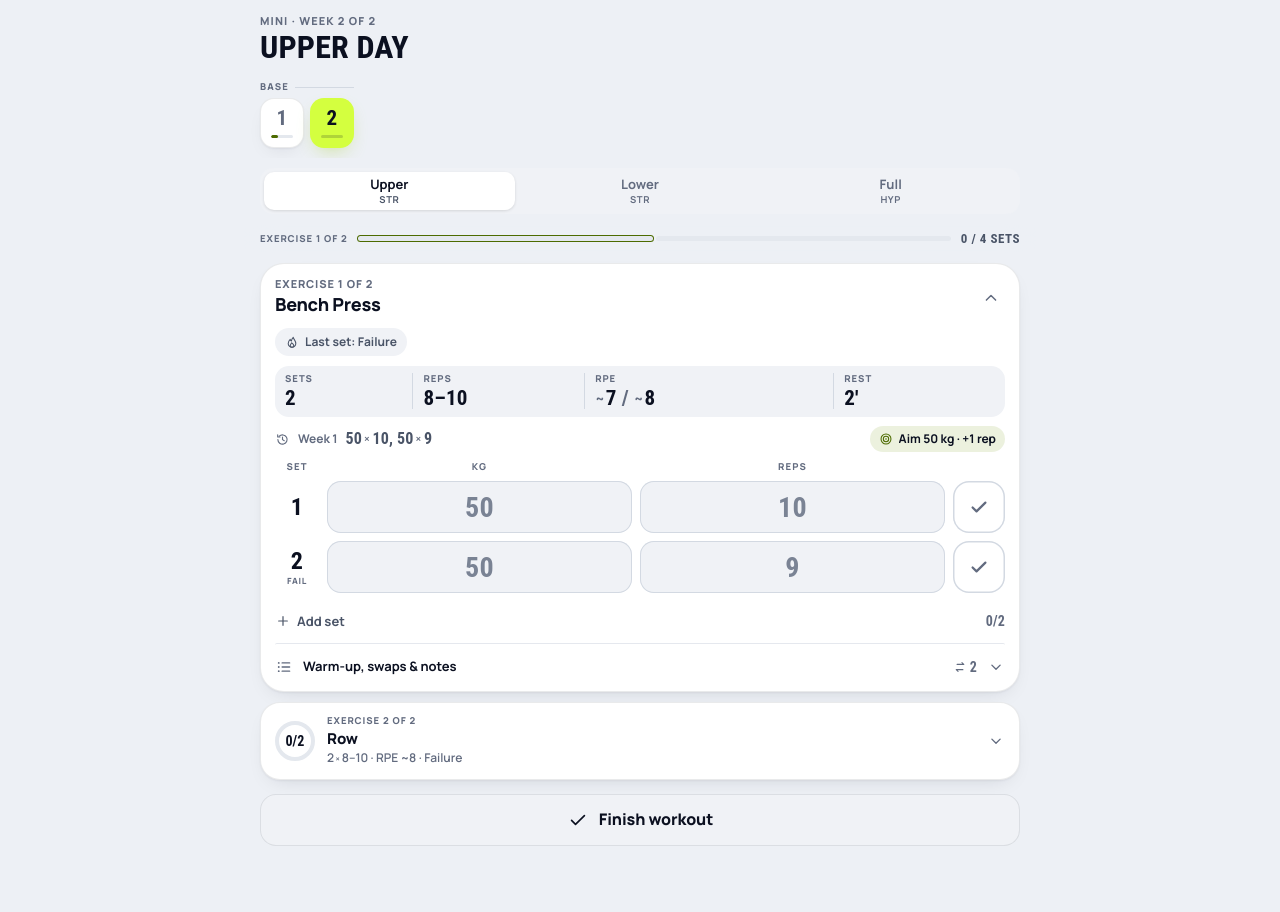
Scenario: TrainPage › reuses last time on an empty tick, stores the set and starts the rest timer
The width and height of the screenshot is (1280, 912).
Expected: the text "Week 1" is shown, [298,431,338,447]
Click the button named "Mark set 1 done" at coordinates (979, 507), box [953,481,1005,533]
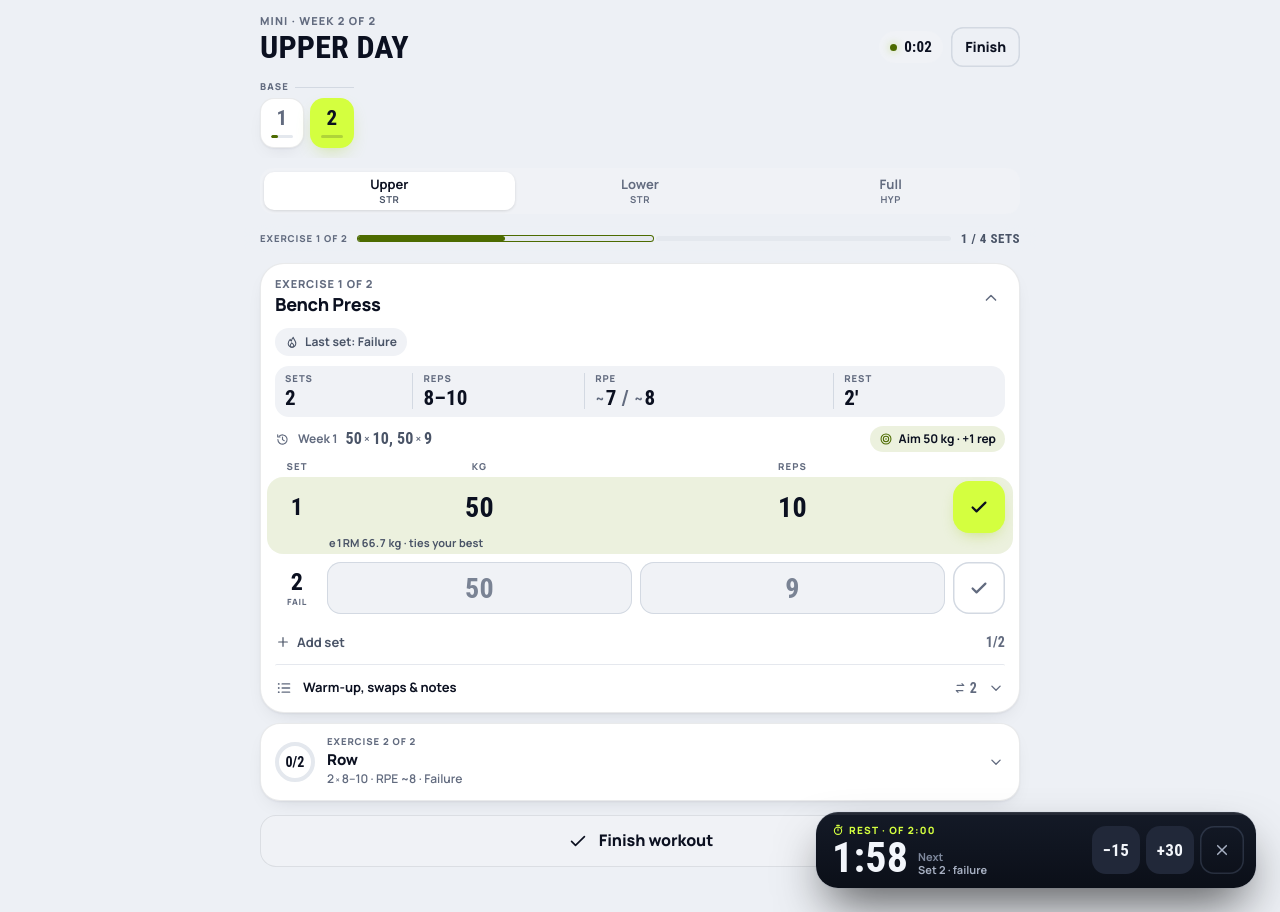
Expected: the element named "Rest timer" is shown, [816,812,1256,888]
